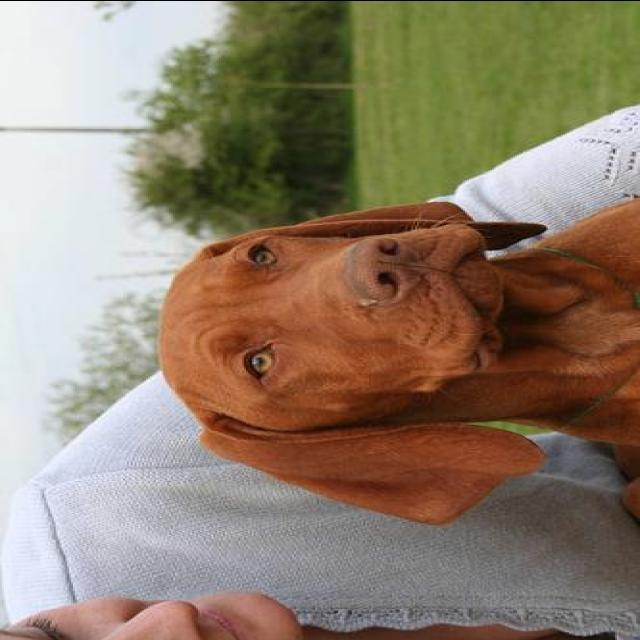vizsla: (156, 200, 638, 524)
